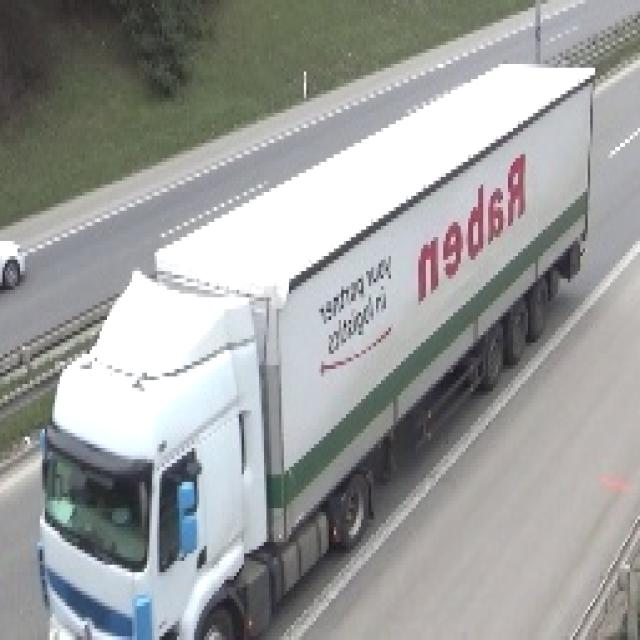TRUCK: (30, 66, 600, 640)
